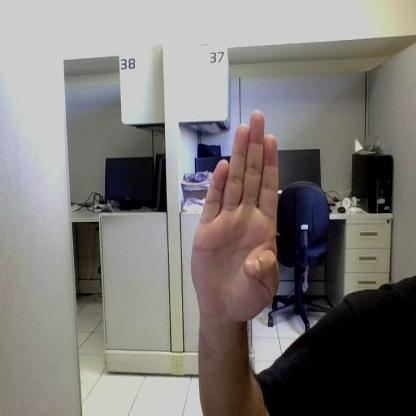B: (192, 109, 279, 314)
